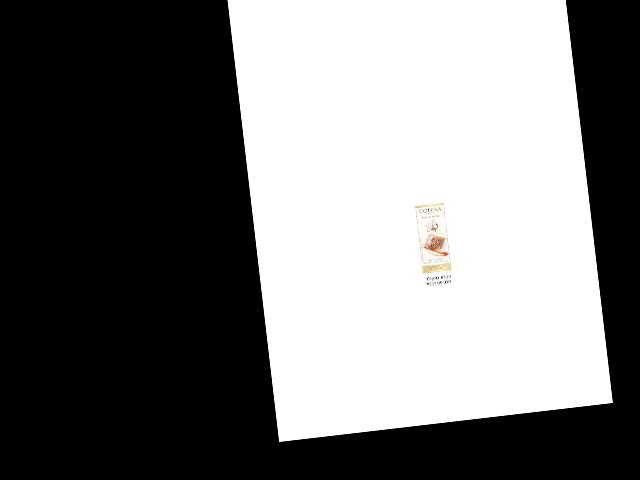chocolate: (415, 201, 454, 276)
